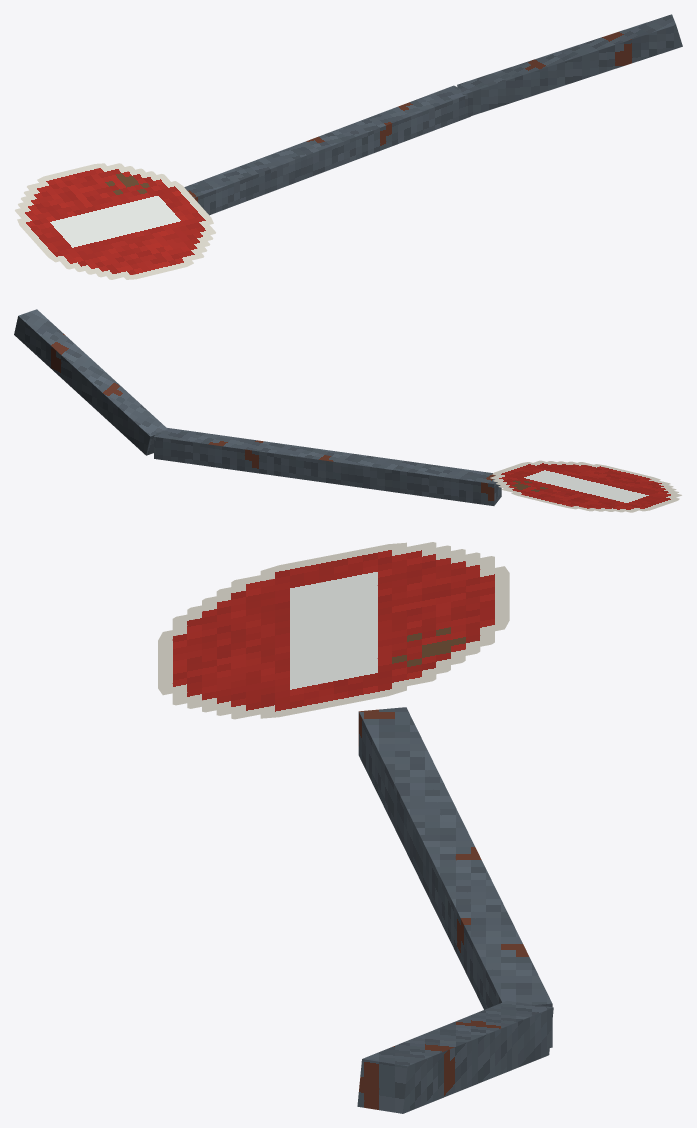
File: fallen_sign.gltf
The picture shows the model from 3 angles, top to bottom: view 1: azimuth 30°, elevation 25°; view 2: azimuth 150°, elevation 25°; view 3: azimuth 270°, elevation 25°; orthographic projection. The views are drawn at different scales.
Parts seen in each view (by area): view 1: fallen_sign; view 2: fallen_sign; view 3: fallen_sign.
Boxes of the visible parts, bbox=[...] form: fallen_sign: bbox=[15, 14, 682, 279]; fallen_sign: bbox=[14, 309, 681, 512]; fallen_sign: bbox=[158, 542, 553, 1113].
Size of the model in its own units: 1.52 by 0.1691 by 0.4214.
2 materials, 2 textured.
